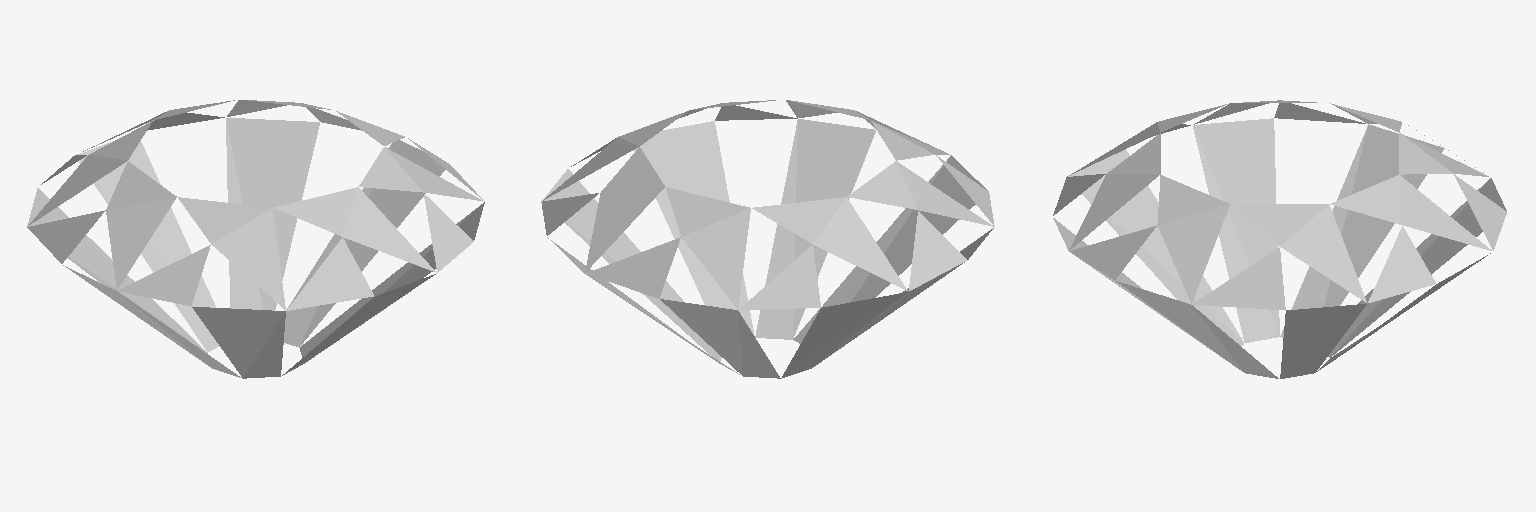
Rendered from halfdiamond.obj.
The picture shows the model from 3 angles: view 1: azimuth 30°, elevation 25°; view 2: azimuth 150°, elevation 25°; view 3: azimuth 270°, elevation 25°; orthographic projection.
Bounding box in the file's own units: 1.97 × 0.9779 × 1.97.